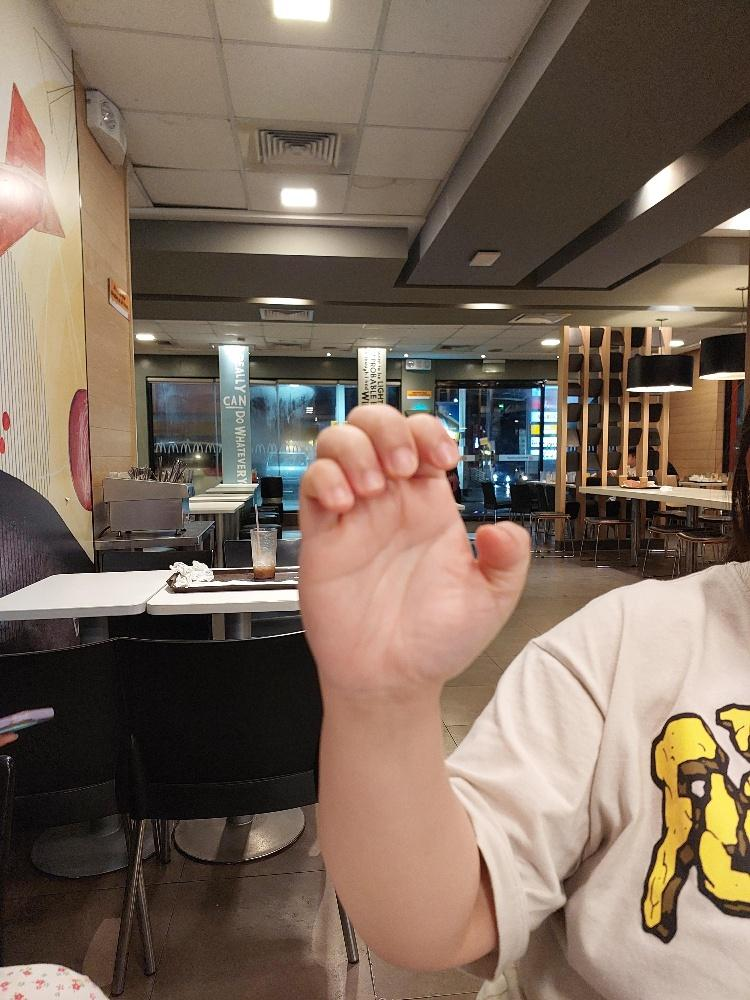e: (293, 399, 532, 690)
